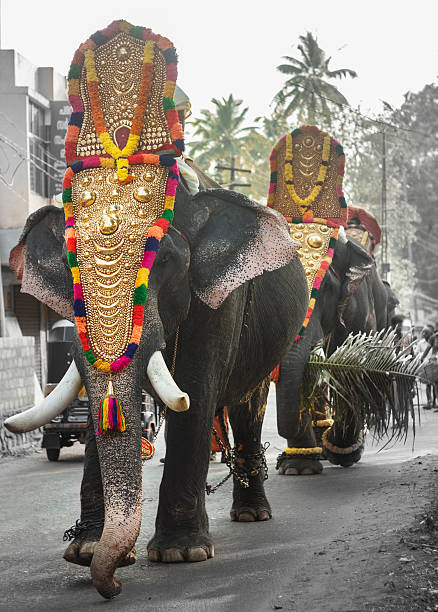elephant: (9, 11, 292, 605)
